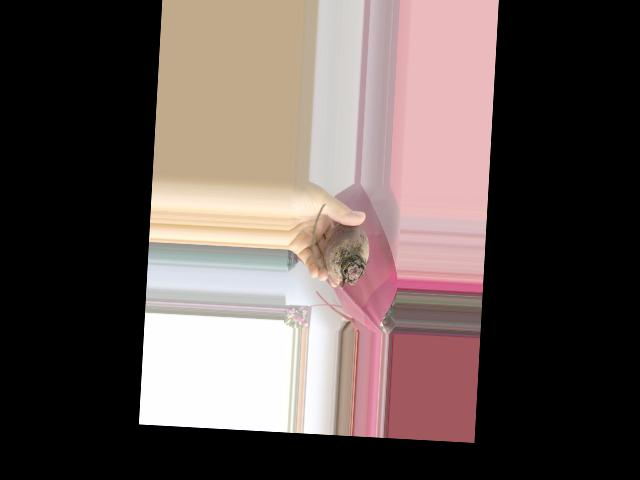beet: (309, 203, 371, 291)
